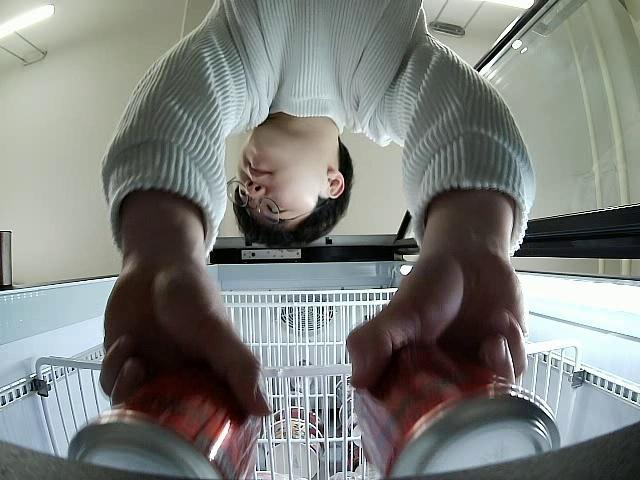11_cocaColaZero: (352, 343, 561, 480), (70, 375, 258, 480)
